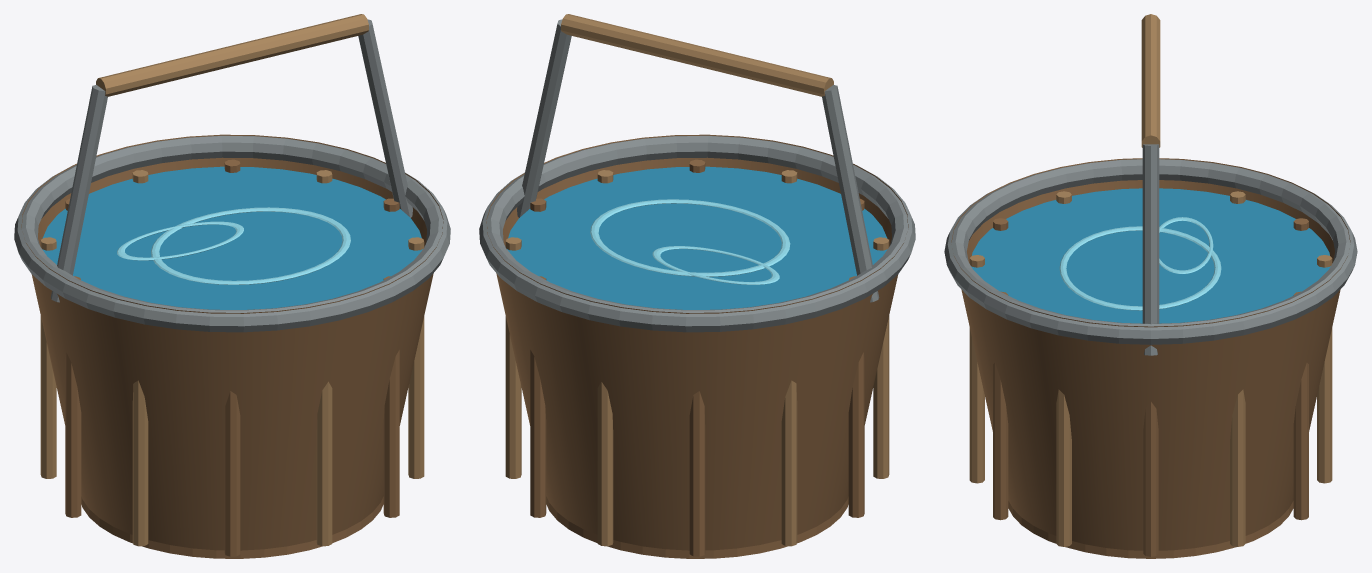
Rendered from balde_agua_chao.glb.
The picture shows the model from 3 angles, left to right: view 1: azimuth 30°, elevation 25°; view 2: azimuth 150°, elevation 25°; view 3: azimuth 270°, elevation 25°; orthographic projection. The views are drawn at different scales.
Parts seen in each view (by area): view 1: Corpo aberto do balde, Superfície da água, Aro superior, Pega da alça, Alça esquerda, Alça direita, Aduela 08, Aduela 07, Aduela 09, Aduela 06, Aduela 10, Onda da água (+4 smaller); view 2: Corpo aberto do balde, Superfície da água, Aro superior, Pega da alça, Alça esquerda, Alça direita, Aduela 04, Aduela 05, Aduela 03, Aduela 06, Aduela 02, Onda da água (+4 smaller); view 3: Corpo aberto do balde, Superfície da água, Aro superior, Alça direita, Pega da alça, Aduela 00, Aduela 01, Aduela 11, Aduela 02, Aduela 10, Aduela 03, Aduela 09 (+3 smaller).
Part boxes in pixels (x1,y1,x2,y2): Corpo aberto do balde: (21,134,443,550); Superfície da água: (42,166,422,309); Aro superior: (14,135,450,332); Pega da alça: (96,14,368,96); Alça esquerda: (50,85,107,302); Alça direita: (358,19,412,217); Aduela 08: (224,391,240,556); Aduela 07: (132,380,148,546); Aduela 09: (316,381,332,546); Aduela 06: (65,276,81,517); Aduela 10: (383,276,399,517); Onda da água: (151,207,350,284); Corpo aberto do balde: (486,134,908,550); Superfície da água: (507,166,887,309); Aro superior: (479,135,915,332); Pega da alça: (561,14,833,96); Alça esquerda: (822,85,879,302); Alça direita: (517,19,571,217); Aduela 04: (689,391,705,556); Aduela 05: (781,380,797,546); Aduela 03: (597,381,613,546); Aduela 06: (848,276,864,517); Aduela 02: (530,276,546,517); Onda da água: (590,199,790,276); Corpo aberto do balde: (951,158,1350,550); Superfície da água: (971,188,1330,323); Aro superior: (944,159,1357,344); Alça direita: (1142,144,1159,355); Pega da alça: (1141,14,1160,147); Aduela 00: (1143,402,1158,556); Aduela 01: (1230,389,1245,546); Aduela 11: (1056,389,1071,546); Aduela 02: (1293,291,1308,520); Aduela 10: (993,291,1008,520); Aduela 03: (1317,255,1332,483); Aduela 09: (969,255,984,483).
Bounding box in the file's own units: 0.59 × 0.6665 × 0.59.
